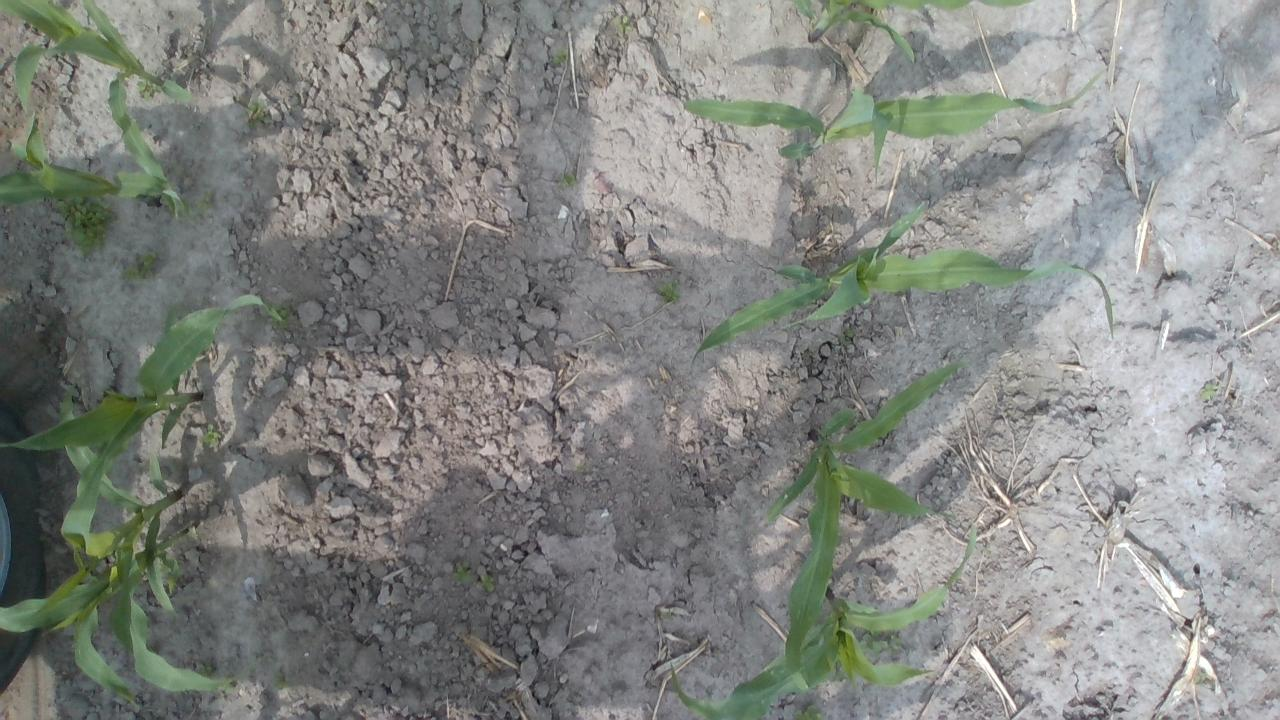Maize: (3, 371, 273, 707), (690, 196, 1116, 372), (756, 352, 968, 674), (664, 516, 981, 717), (3, 290, 286, 513), (679, 61, 1106, 188), (3, 68, 194, 221), (0, 1, 192, 128), (792, 3, 1036, 66)
Weeds: (46, 195, 115, 258), (452, 562, 495, 594), (117, 254, 162, 282), (200, 424, 222, 450), (653, 282, 681, 302), (138, 78, 162, 97), (797, 704, 828, 718), (616, 14, 634, 33), (1202, 380, 1220, 399), (246, 100, 266, 116), (553, 48, 567, 66), (558, 172, 575, 186)
